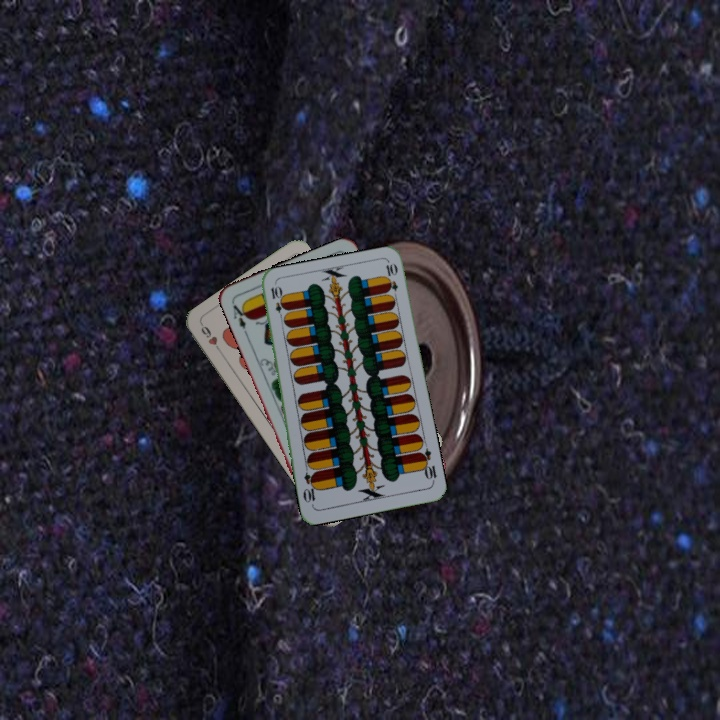E10: (415, 445, 439, 485), (267, 282, 287, 323)
EA: (228, 298, 252, 337)
H9: (197, 320, 225, 356)
